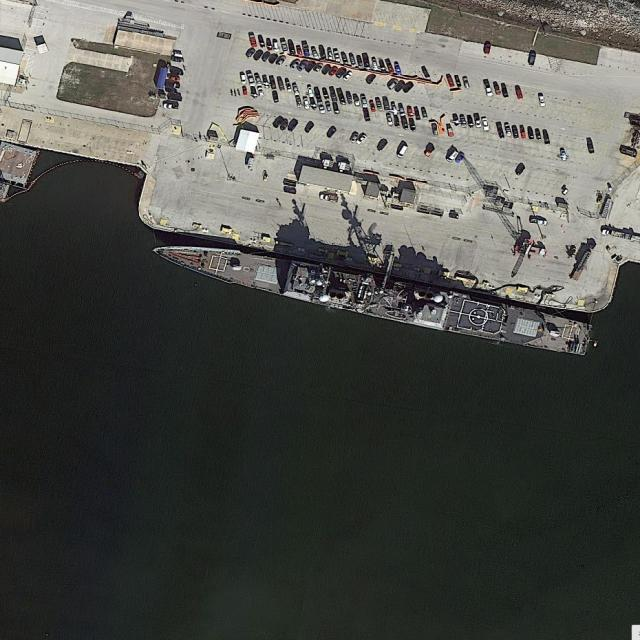Cruiser: (150, 232, 590, 359)
